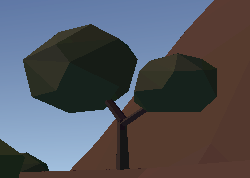tree: (23, 23, 223, 168)
